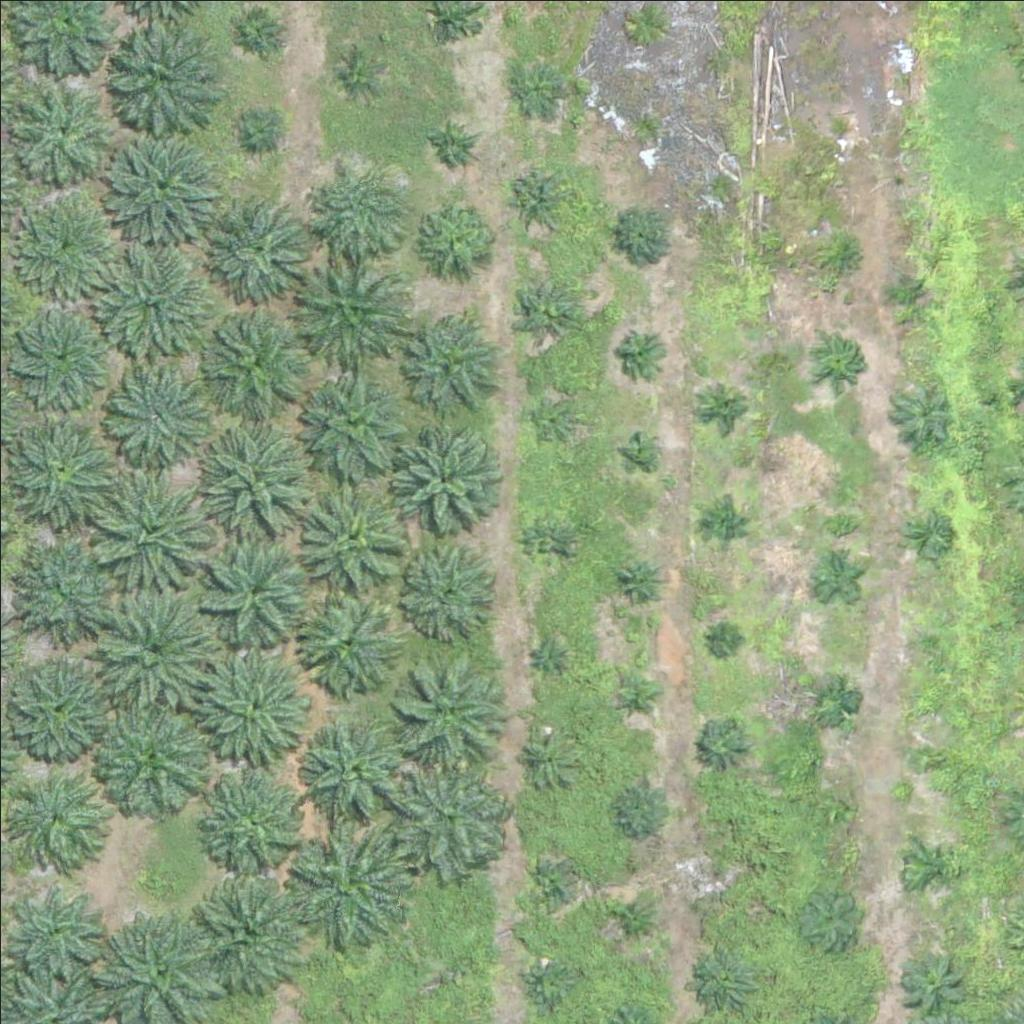Kelapa_Sawit: (281, 819, 406, 945), (91, 586, 216, 712), (89, 696, 214, 822), (194, 418, 319, 544), (87, 470, 212, 596), (191, 877, 304, 991), (91, 245, 204, 359), (201, 651, 314, 764), (202, 534, 315, 647), (205, 190, 318, 303), (13, 190, 126, 303), (200, 301, 312, 415), (292, 245, 404, 359), (296, 361, 408, 475), (293, 478, 405, 592), (393, 759, 505, 872), (384, 653, 496, 766), (4, 413, 116, 526), (104, 124, 216, 237), (104, 12, 216, 125), (6, 880, 106, 981), (303, 721, 403, 822), (297, 593, 397, 694), (13, 297, 113, 398), (101, 357, 201, 458), (8, 766, 108, 866), (10, 657, 110, 757), (25, 534, 125, 634), (204, 773, 304, 873), (392, 428, 492, 528), (404, 302, 504, 402), (415, 191, 502, 279), (400, 544, 487, 632), (315, 164, 402, 252), (795, 882, 870, 957), (504, 164, 567, 227), (890, 381, 953, 444), (609, 205, 672, 268), (609, 777, 672, 840), (511, 274, 573, 337), (692, 946, 754, 1009), (901, 955, 963, 1018), (417, 112, 479, 175), (700, 380, 750, 431), (616, 326, 666, 377), (523, 732, 573, 783), (907, 844, 957, 895), (700, 719, 750, 770), (607, 897, 657, 948), (882, 267, 932, 318), (820, 232, 870, 283), (510, 58, 560, 108), (518, 515, 568, 565), (698, 498, 748, 548), (810, 553, 860, 603), (903, 510, 953, 560), (815, 335, 865, 385), (808, 673, 858, 723), (331, 47, 381, 97), (523, 860, 573, 910), (524, 959, 574, 1009), (612, 670, 662, 720), (529, 396, 579, 446), (613, 556, 663, 606), (234, 106, 284, 156), (233, 3, 283, 53), (812, 789, 850, 827), (621, 433, 659, 471), (702, 869, 727, 894), (536, 640, 561, 665), (713, 626, 738, 651), (914, 633, 939, 658), (914, 749, 939, 774), (830, 115, 855, 140)
